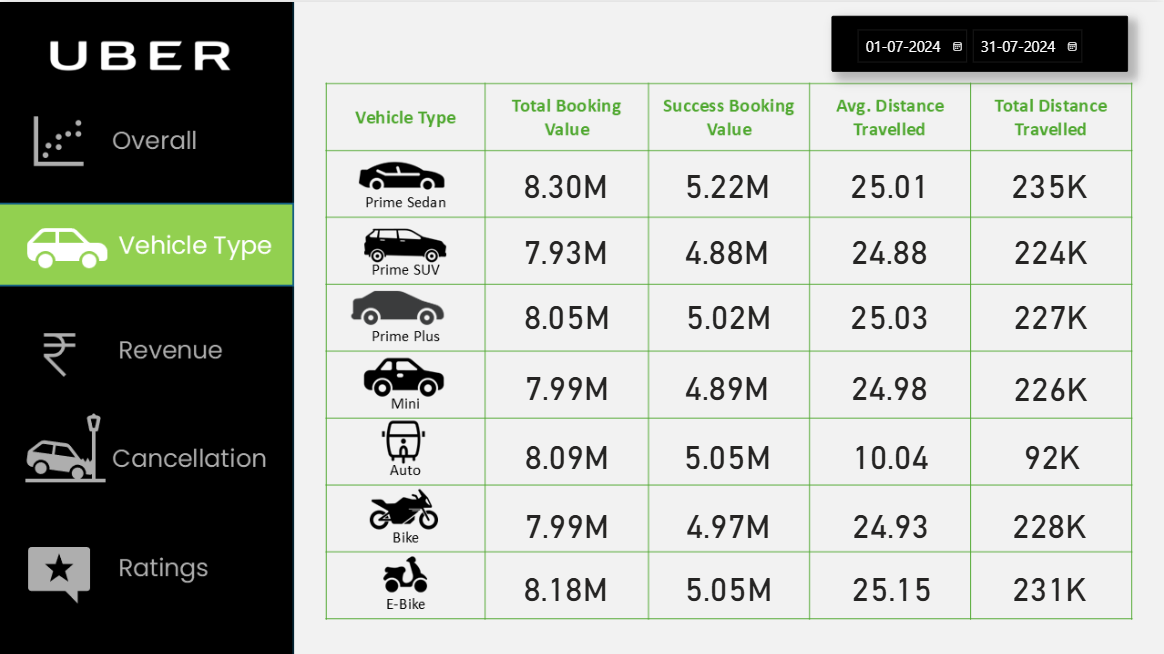

What the dashboard file says about the page in this screenshot:
{"tool":"powerbi","page":{"name":"Vehicle Type","canvas":[1280,720],"ordinal":1},"visuals":[{"type":"actionButton","box":[0,106.7,322.7,92],"z":0},{"type":"actionButton","box":[1.2,343.6,322.7,96.9],"z":1000},{"type":"actionButton","box":[0,451.5,322.7,90.8],"z":2000},{"type":"actionButton","box":[0,579.1,322.7,93.3],"z":3000},{"type":"card","fields":{"Values":["Sum(July.Booking_Value)"]},"box":[542,168.8,160.5,60.4],"z":4000},{"type":"card","fields":{"Values":["Sum(July.Booking_Value)"]},"box":[542,241.5,160.5,60.4],"z":5000},{"type":"card","fields":{"Values":["Sum(July.Booking_Value)"]},"box":[543.4,312.9,160.5,60.4],"z":6000},{"type":"card","fields":{"Values":["Sum(July.Booking_Value)"]},"box":[543.4,391.1,160.5,60.4],"z":7000},{"type":"card","fields":{"Values":["Sum(July.Booking_Value)"]},"box":[543.4,466.6,160.5,60.4],"z":8000},{"type":"card","fields":{"Values":["Sum(July.Booking_Value)"]},"box":[543.4,542,160.5,60.4],"z":9000},{"type":"card","fields":{"Values":["Sum(July.Booking_Value)"]},"box":[542,612,160.5,60.4],"z":10000},{"type":"card","fields":{"Values":["Sum(July.Booking_Value)"]},"box":[719,168.8,160.5,60.4],"z":11000},{"type":"card","fields":{"Values":["Sum(July.Booking_Value)"]},"box":[719,241.5,160.5,60.4],"z":12000},{"type":"card","fields":{"Values":["Sum(July.Booking_Value)"]},"box":[720.4,312.9,160.5,60.4],"z":13000},{"type":"card","fields":{"Values":["Sum(July.Booking_Value)"]},"box":[719,391.1,160.5,60.4],"z":14000},{"type":"card","fields":{"Values":["Sum(July.Booking_Value)"]},"box":[719,466.6,160.5,60.4],"z":15000},{"type":"card","fields":{"Values":["Sum(July.Booking_Value)"]},"box":[720.4,542,160.5,60.4],"z":16000},{"type":"card","fields":{"Values":["Sum(July.Booking_Value)"]},"box":[720.4,612,160.5,60.4],"z":17000},{"type":"card","fields":{"Values":["Avg(July.Ride_Distance)"]},"box":[897.4,168.8,160.5,60.4],"z":18000},{"type":"card","fields":{"Values":["Avg(July.Ride_Distance)"]},"box":[897.4,241.5,160.5,60.4],"z":19000},{"type":"card","fields":{"Values":["Avg(July.Ride_Distance)"]},"box":[897.4,312.9,160.5,60.4],"z":20000},{"type":"card","fields":{"Values":["Avg(July.Ride_Distance)"]},"box":[897.4,391.1,160.5,60.4],"z":21000},{"type":"card","fields":{"Values":["Avg(July.Ride_Distance)"]},"box":[898.8,466.6,160.5,60.4],"z":22000},{"type":"card","fields":{"Values":["Avg(July.Ride_Distance)"]},"box":[898.8,542,160.5,60.4],"z":23000},{"type":"card","fields":{"Values":["Avg(July.Ride_Distance)"]},"box":[900.2,612,160.5,60.4],"z":24000},{"type":"card","fields":{"Values":["Sum(July.Ride_Distance)"]},"box":[1073.1,168.8,160.5,60.4],"z":25000},{"type":"card","fields":{"Values":["Sum(July.Ride_Distance)"]},"box":[1074.4,241.5,160.5,60.4],"z":26000},{"type":"card","fields":{"Values":["Sum(July.Ride_Distance)"]},"box":[1074.4,312.9,160.5,60.4],"z":27000},{"type":"card","fields":{"Values":["Sum(July.Ride_Distance)"]},"box":[1074.4,392.5,160.5,60.4],"z":28000},{"type":"card","fields":{"Values":["Sum(July.Ride_Distance)"]},"box":[1075.8,466.6,160.5,60.4],"z":29000},{"type":"card","fields":{"Values":["Sum(July.Ride_Distance)"]},"box":[1073.1,542,160.5,60.4],"z":30000},{"type":"card","fields":{"Values":["Sum(July.Ride_Distance)"]},"box":[1073.1,612,160.5,60.4],"z":31000},{"type":"slicer","title":"DATE","fields":{"Values":["July.Date"]},"box":[913.9,15.1,325.2,61.7],"z":32000}]}

Visuals, with their boxes in screenshot pixels (x1, y1, x2, y2), scaled from the page's 1280x720 canvas onto the 1164x654 screenshot:
actionButton: left=0, top=97, right=293, bottom=180
actionButton: left=1, top=312, right=295, bottom=400
actionButton: left=0, top=410, right=293, bottom=493
actionButton: left=0, top=526, right=293, bottom=611
card - Sum(July.Booking_Value): left=493, top=153, right=639, bottom=208
card - Sum(July.Booking_Value): left=493, top=219, right=639, bottom=274
card - Sum(July.Booking_Value): left=494, top=284, right=640, bottom=339
card - Sum(July.Booking_Value): left=494, top=355, right=640, bottom=410
card - Sum(July.Booking_Value): left=494, top=424, right=640, bottom=479
card - Sum(July.Booking_Value): left=494, top=492, right=640, bottom=547
card - Sum(July.Booking_Value): left=493, top=556, right=639, bottom=611
card - Sum(July.Booking_Value): left=654, top=153, right=800, bottom=208
card - Sum(July.Booking_Value): left=654, top=219, right=800, bottom=274
card - Sum(July.Booking_Value): left=655, top=284, right=801, bottom=339
card - Sum(July.Booking_Value): left=654, top=355, right=800, bottom=410
card - Sum(July.Booking_Value): left=654, top=424, right=800, bottom=479
card - Sum(July.Booking_Value): left=655, top=492, right=801, bottom=547
card - Sum(July.Booking_Value): left=655, top=556, right=801, bottom=611
card - Avg(July.Ride_Distance): left=816, top=153, right=962, bottom=208
card - Avg(July.Ride_Distance): left=816, top=219, right=962, bottom=274
card - Avg(July.Ride_Distance): left=816, top=284, right=962, bottom=339
card - Avg(July.Ride_Distance): left=816, top=355, right=962, bottom=410
card - Avg(July.Ride_Distance): left=817, top=424, right=963, bottom=479
card - Avg(July.Ride_Distance): left=817, top=492, right=963, bottom=547
card - Avg(July.Ride_Distance): left=819, top=556, right=965, bottom=611
card - Sum(July.Ride_Distance): left=976, top=153, right=1122, bottom=208
card - Sum(July.Ride_Distance): left=977, top=219, right=1123, bottom=274
card - Sum(July.Ride_Distance): left=977, top=284, right=1123, bottom=339
card - Sum(July.Ride_Distance): left=977, top=357, right=1123, bottom=411
card - Sum(July.Ride_Distance): left=978, top=424, right=1124, bottom=479
card - Sum(July.Ride_Distance): left=976, top=492, right=1122, bottom=547
card - Sum(July.Ride_Distance): left=976, top=556, right=1122, bottom=611
"DATE" slicer: left=831, top=14, right=1127, bottom=70
